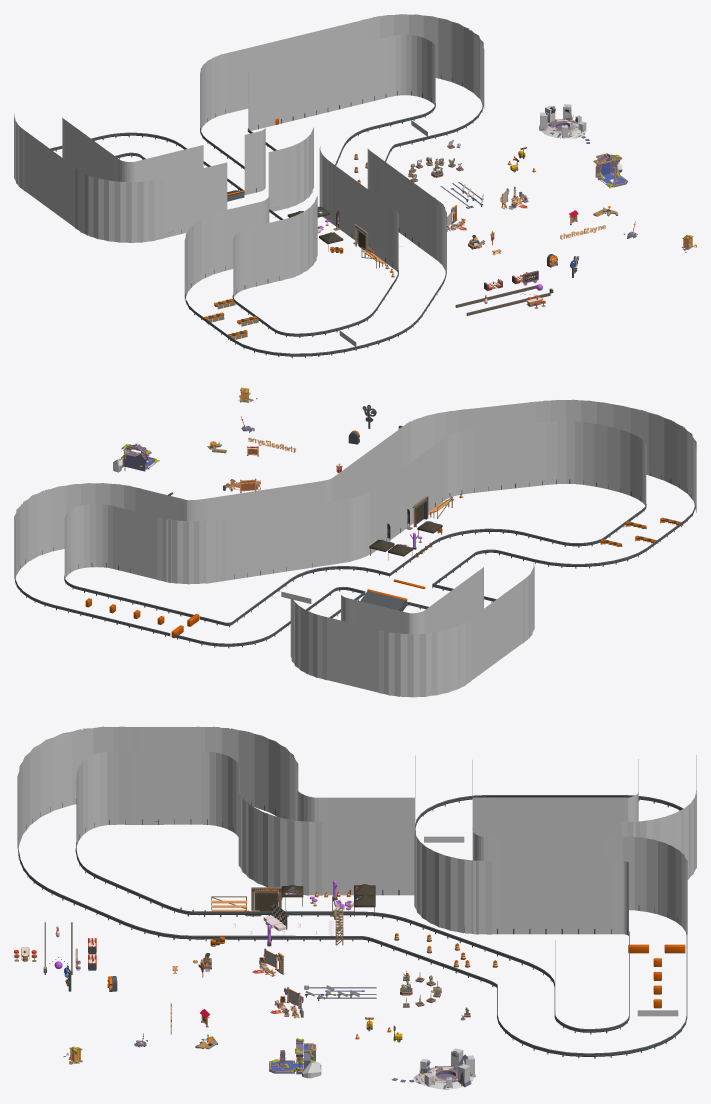
Rendered from areas-compressed.glb.
The picture shows the model from 3 angles, top to bottom: view 1: azimuth 30°, elevation 25°; view 2: azimuth 150°, elevation 25°; view 3: azimuth 270°, elevation 25°; orthographic projection. The views are drawn at different scales.
Parts seen in each view (by area): view 1: trimesh, refRailsPhysicalFixed, Cube089, Plane119_1, blocks, Cube173; view 2: trimesh, refRailsPhysicalFixed, Cube089, jump, Cube088; view 3: trimesh, refRailsPhysicalFixed, Cube088, Cube089, Cube173.
Part boxes in pixels (x1,y1,x2,y2): trimesh: (14, 14, 484, 299); refRailsPhysicalFixed: (50, 75, 483, 358); Cube089: (593, 153, 627, 188); Plane119_1: (455, 285, 550, 315); blocks: (204, 298, 258, 340); Cube173: (539, 106, 589, 143); trimesh: (14, 399, 696, 697); refRailsPhysicalFixed: (15, 471, 695, 648); Cube089: (113, 443, 159, 471); jump: (360, 579, 425, 611); Cube088: (370, 496, 452, 560); trimesh: (17, 726, 696, 1009); refRailsPhysicalFixed: (18, 795, 687, 1058); Cube088: (210, 887, 374, 946); Cube089: (269, 1038, 320, 1076); Cube173: (392, 1051, 475, 1088).
Bounding box in the file's own units: 169 × 22.1 × 169.
24 materials, 13 textured.
